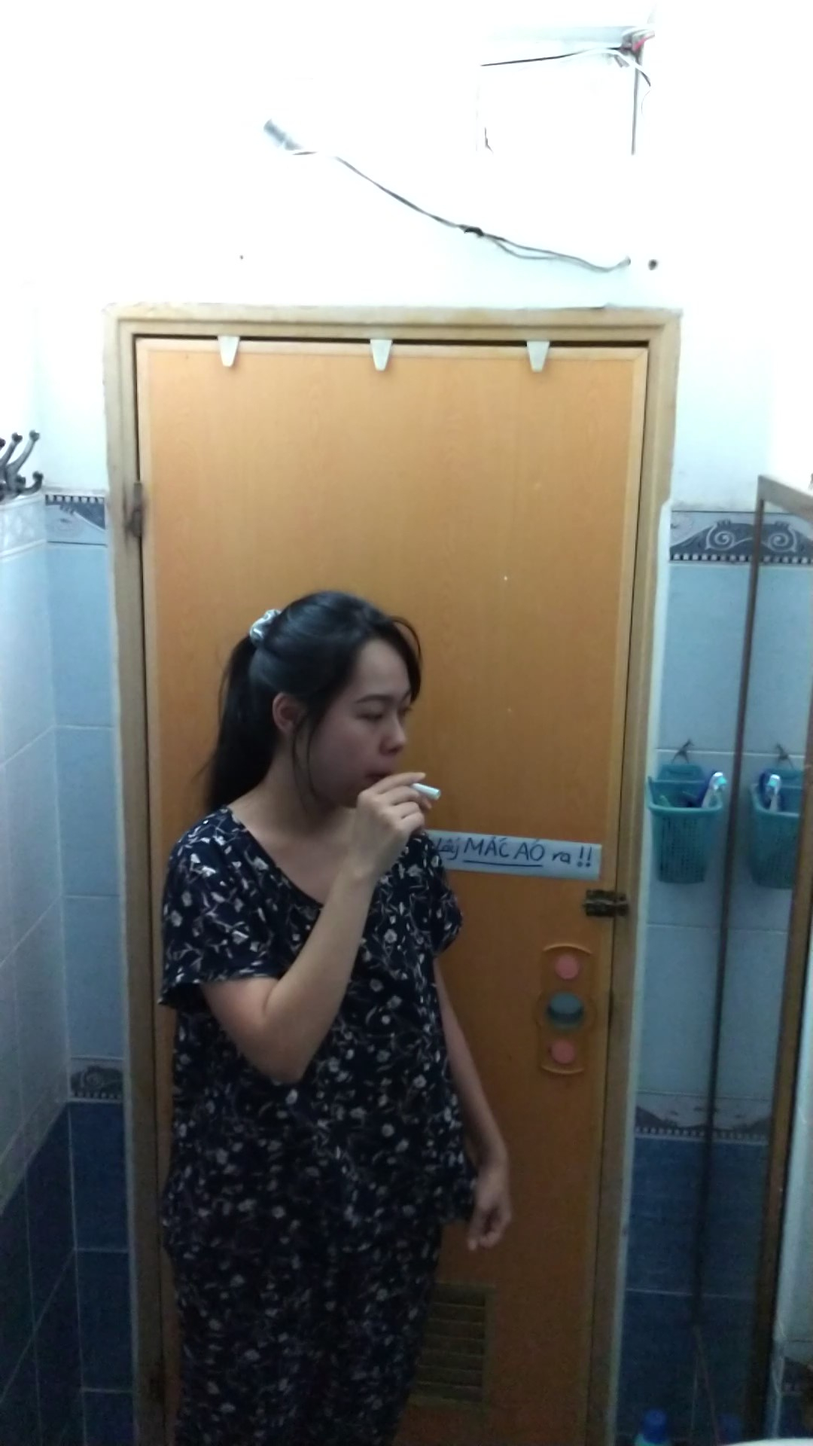cigarette: (410, 779, 443, 804)
person: (154, 592, 515, 1446)
